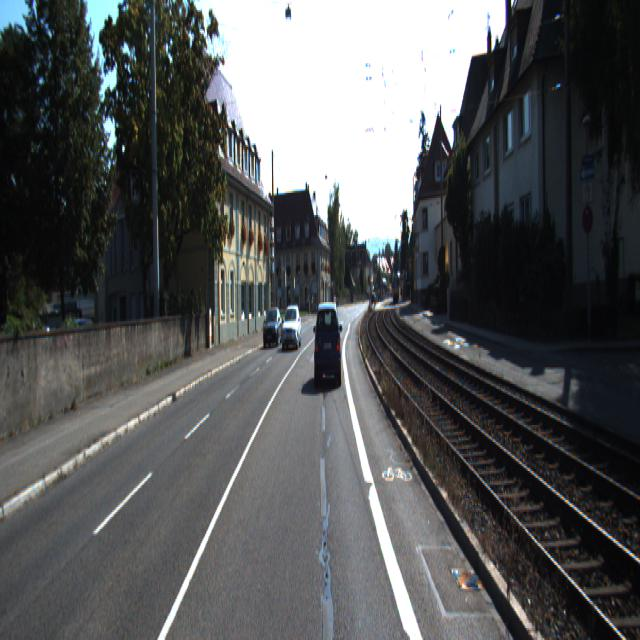Car: (313, 300, 342, 388), (282, 303, 302, 349), (263, 306, 283, 348)
